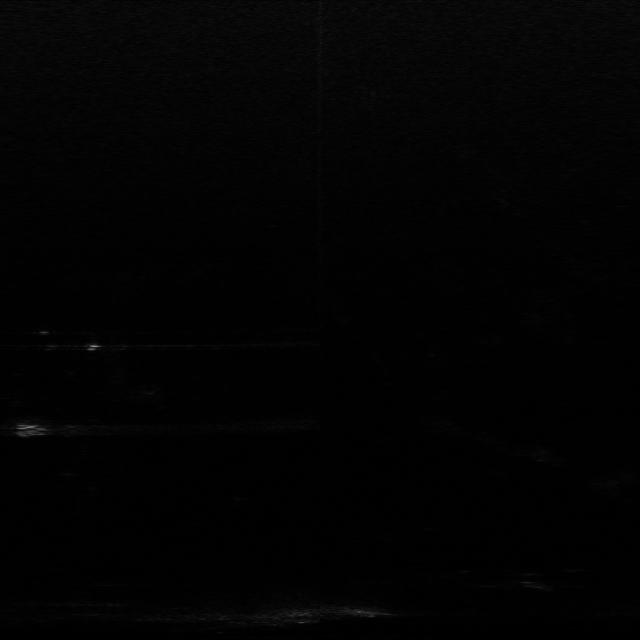rov: (10, 420, 44, 439)
